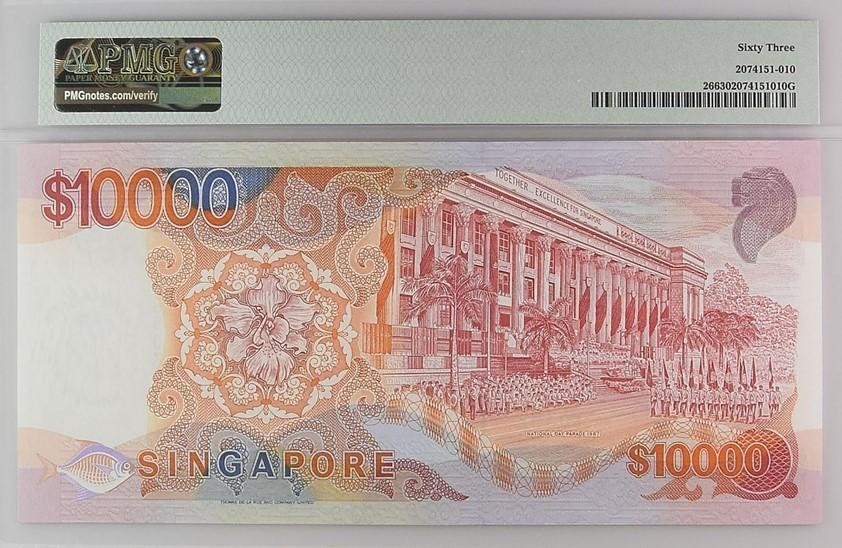10000SingaporeDollar: (17, 143, 824, 523)
